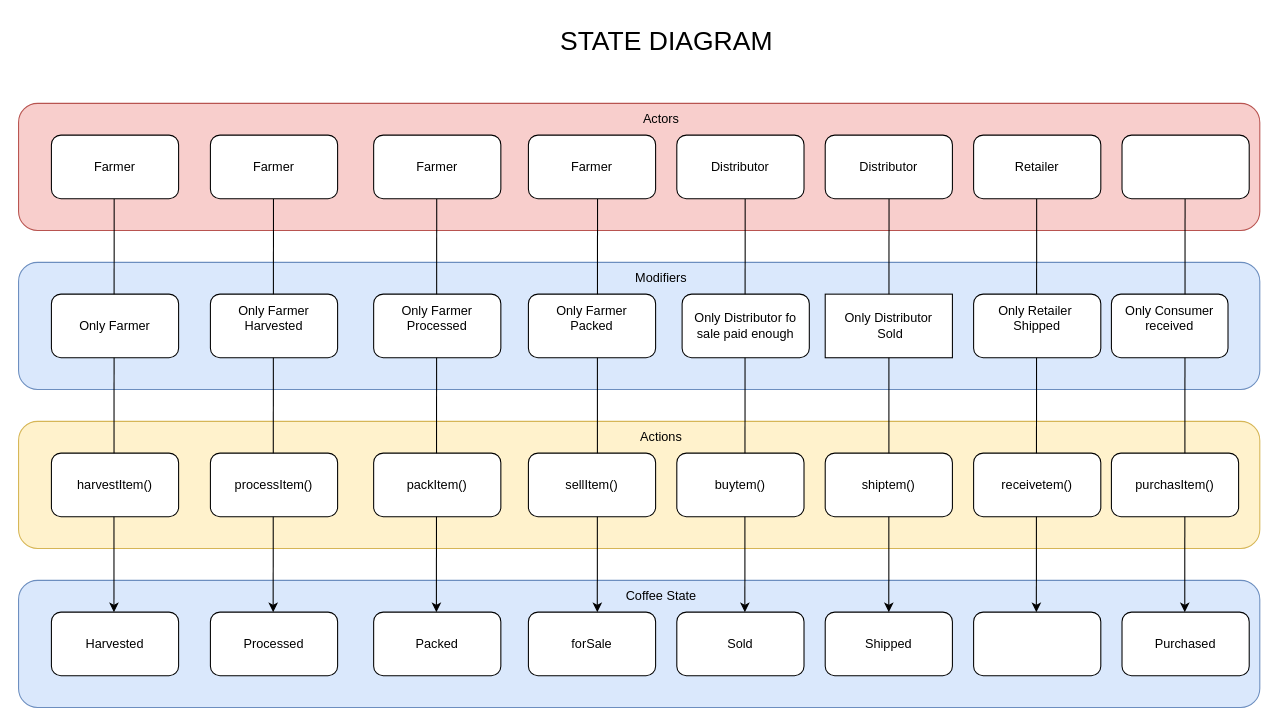
This 1278x726 diagram has some shape labels left out. Here are the shapes that lost their labels. From the top down, the box of each, then its label:
(1121, 134, 1249, 199): Consumer
(973, 611, 1101, 676): Received
